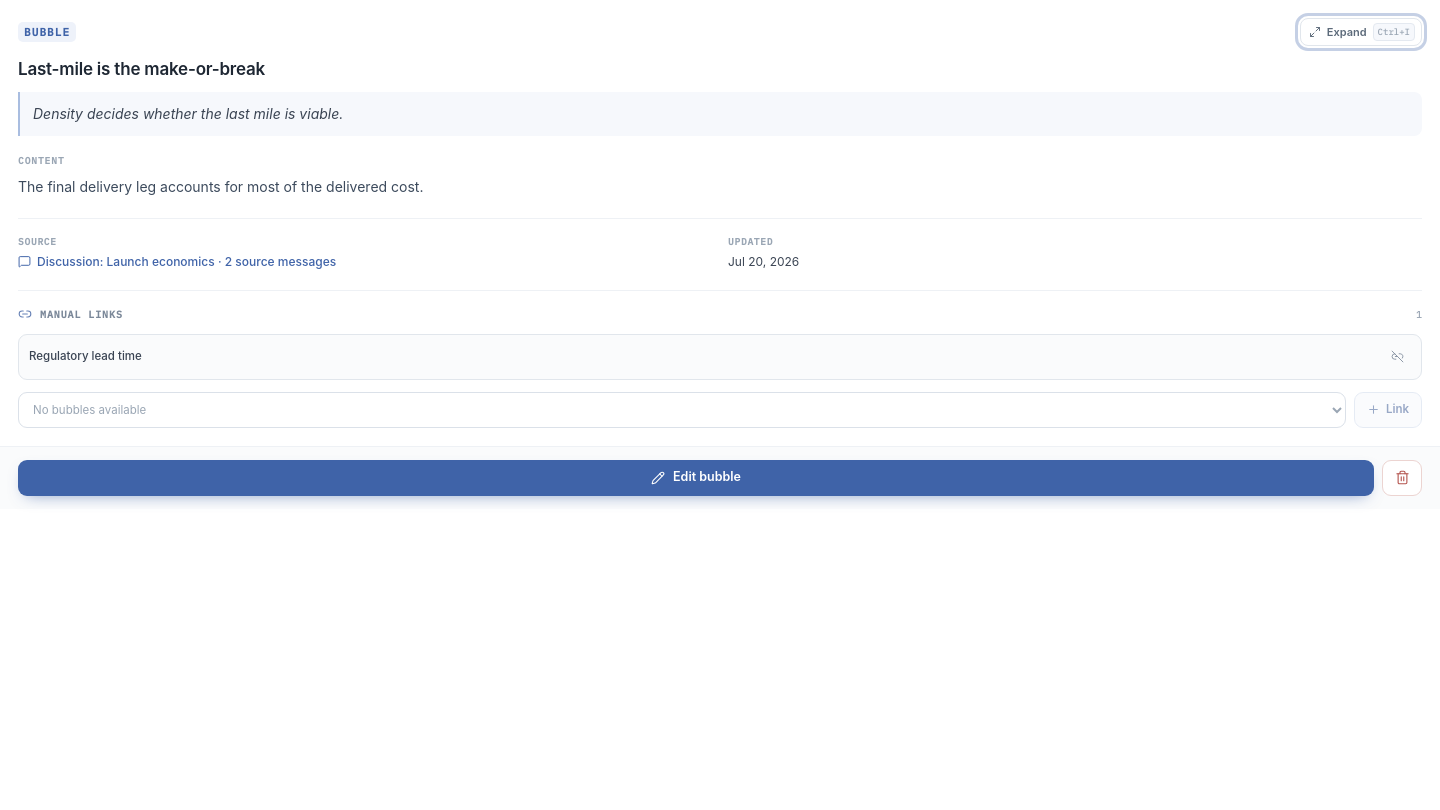
BubbleInspector › expands the bubble into a full reading dialog and returns focus on Escape
The image size is (1440, 810).
Click the button "Expand Ctrl+I" at [1361, 32], box x1=1300 y1=18 x2=1422 y2=46
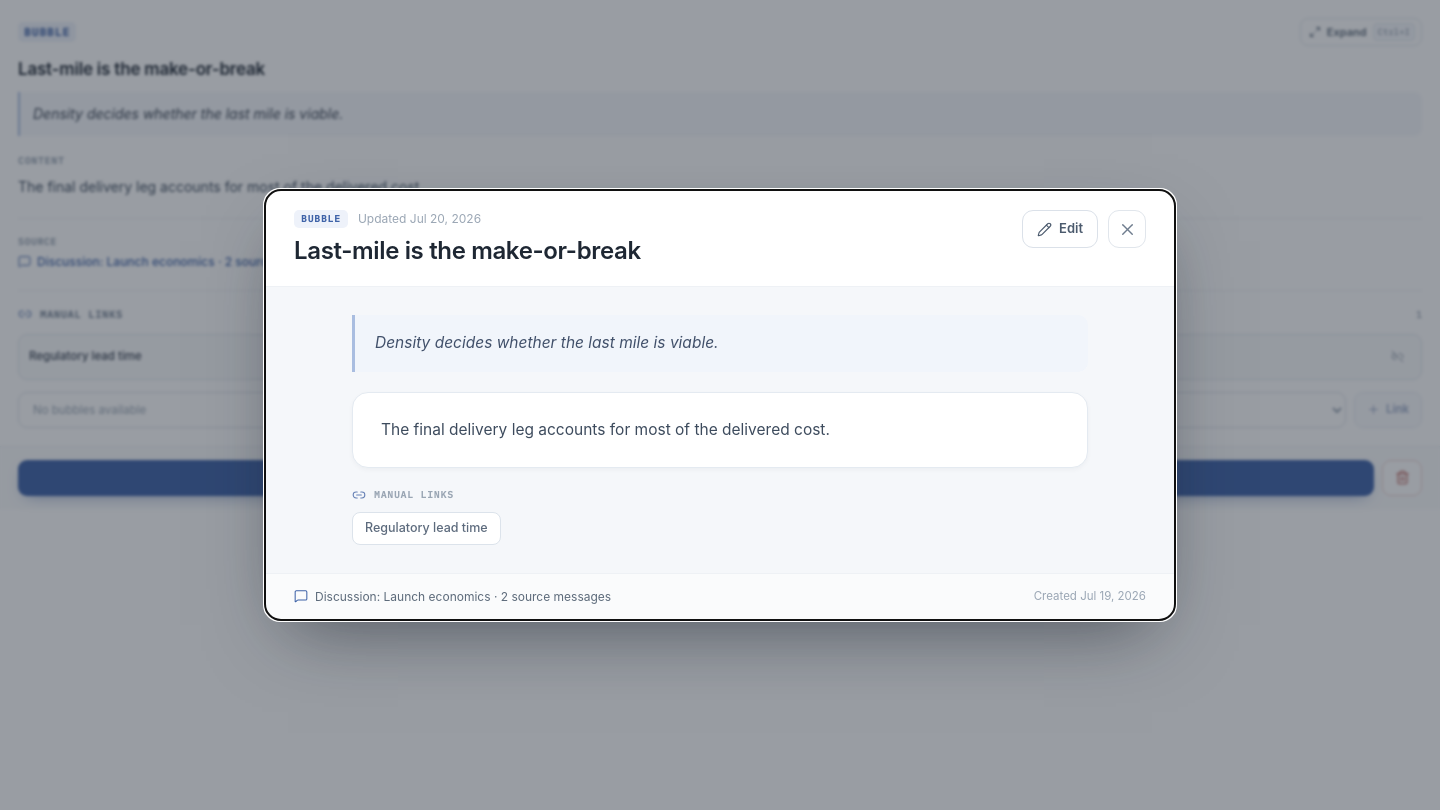
Now the text "Density decides whether the last mile is viable." is shown, box x1=352 y1=315 x2=1088 y2=372
Now the text "The final delivery leg accounts for most of the delivered cost." is shown, box x1=381 y1=420 x2=830 y2=439
Now the text "Discussion: Launch economics · 2 source messages" is shown, box x1=315 y1=588 x2=611 y2=606
Press Escape
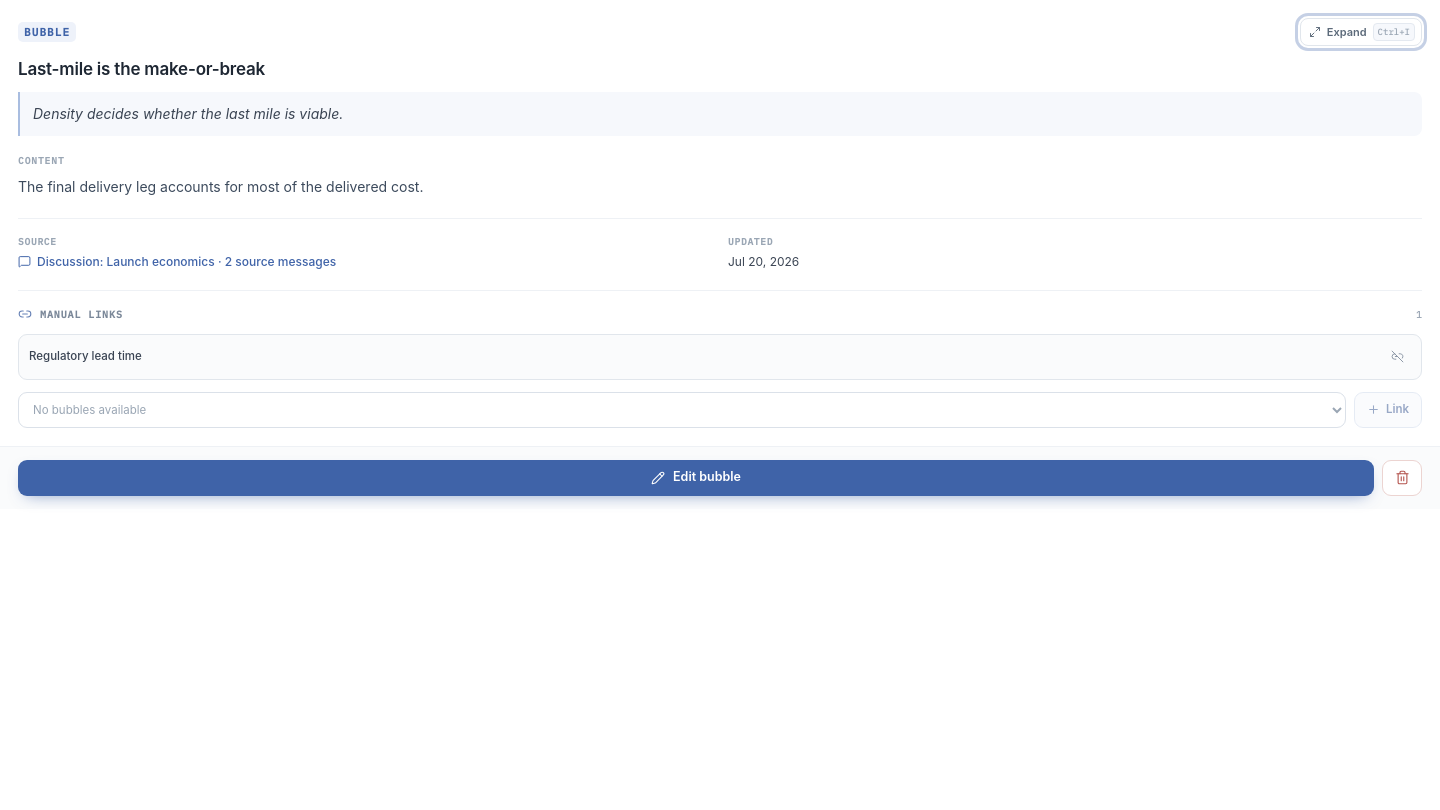
Now the dialog is gone
